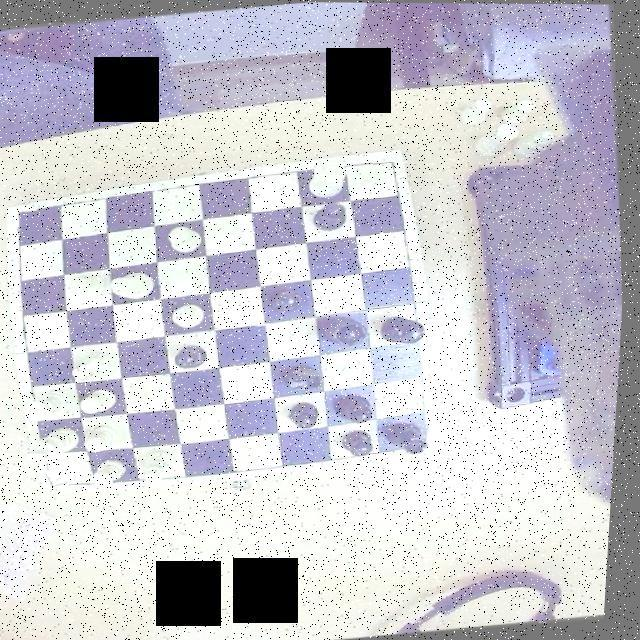chess-table-corners: (406, 419, 442, 454), (370, 152, 406, 185), (11, 202, 41, 232), (42, 467, 74, 494)
